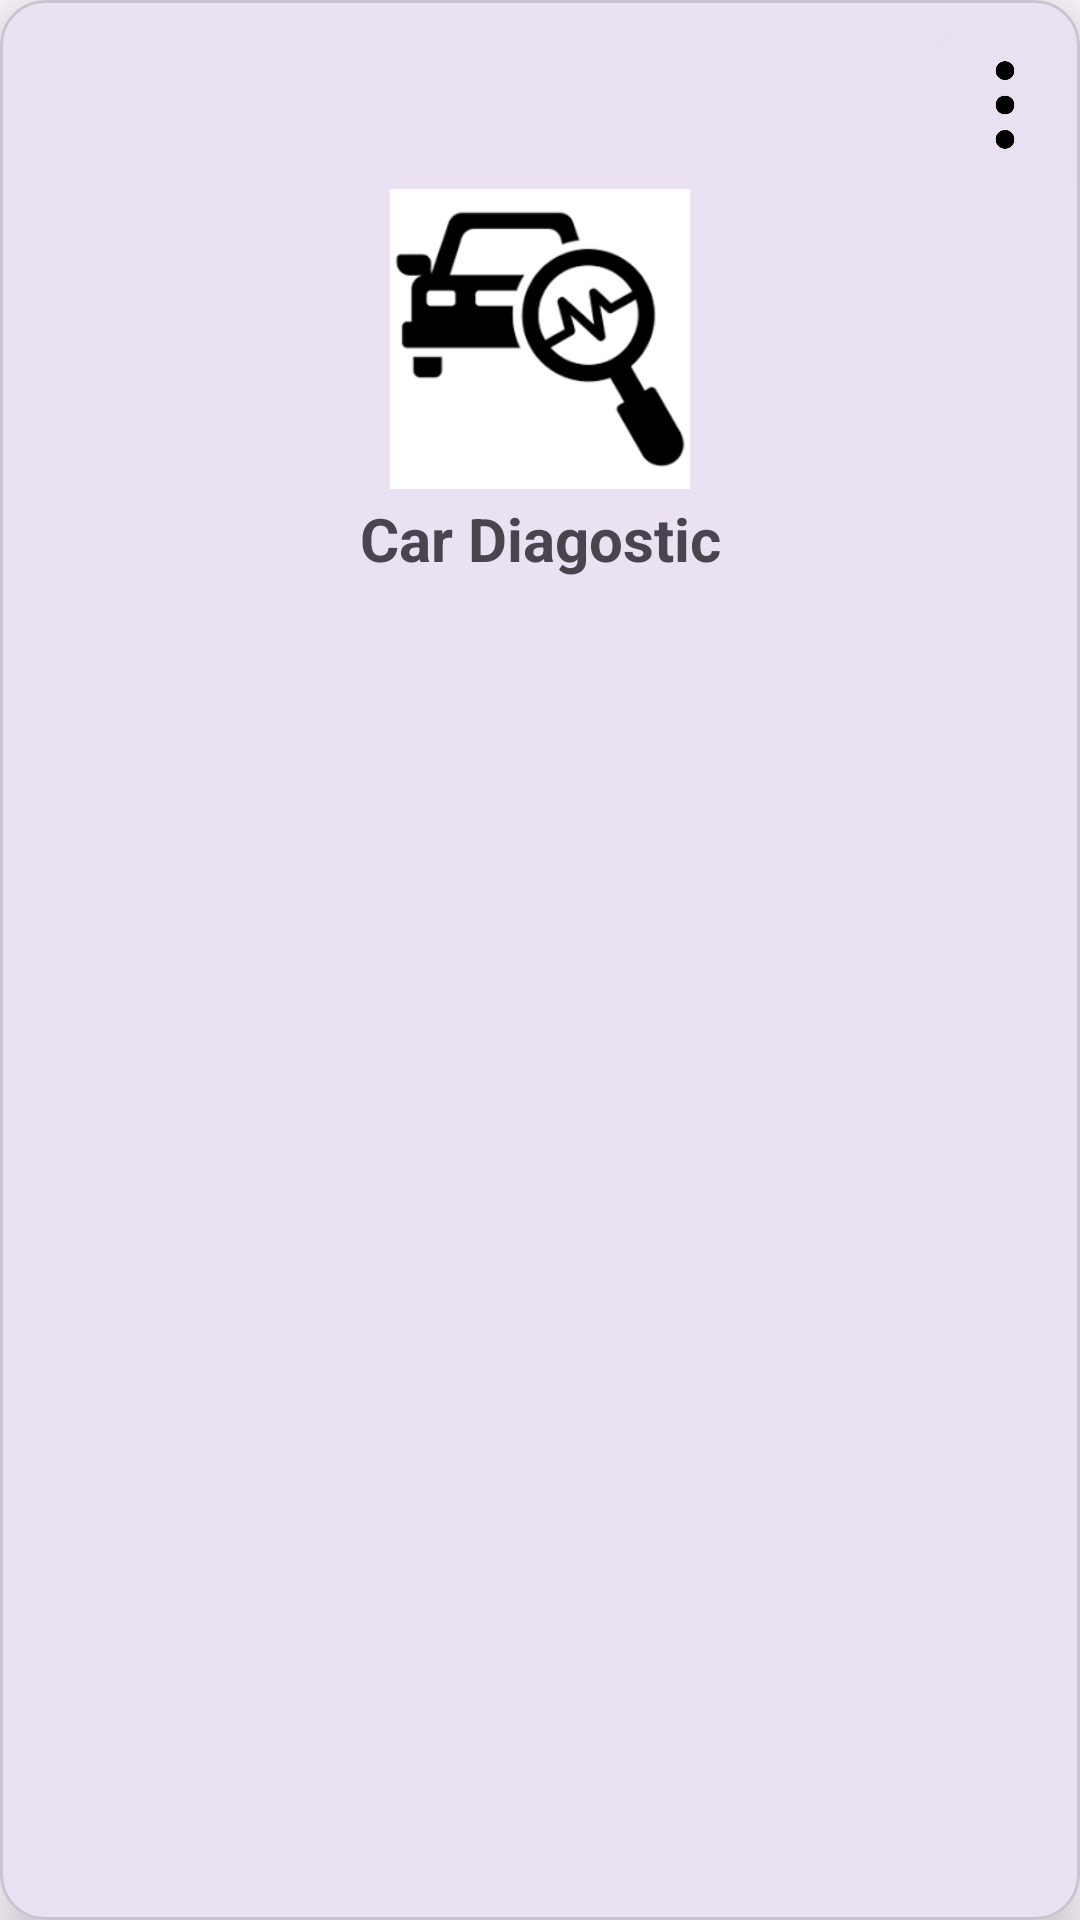

Named icons in this screenshot (1080x1920) and their centers, [x,y]:
threedots: [1005,105]
